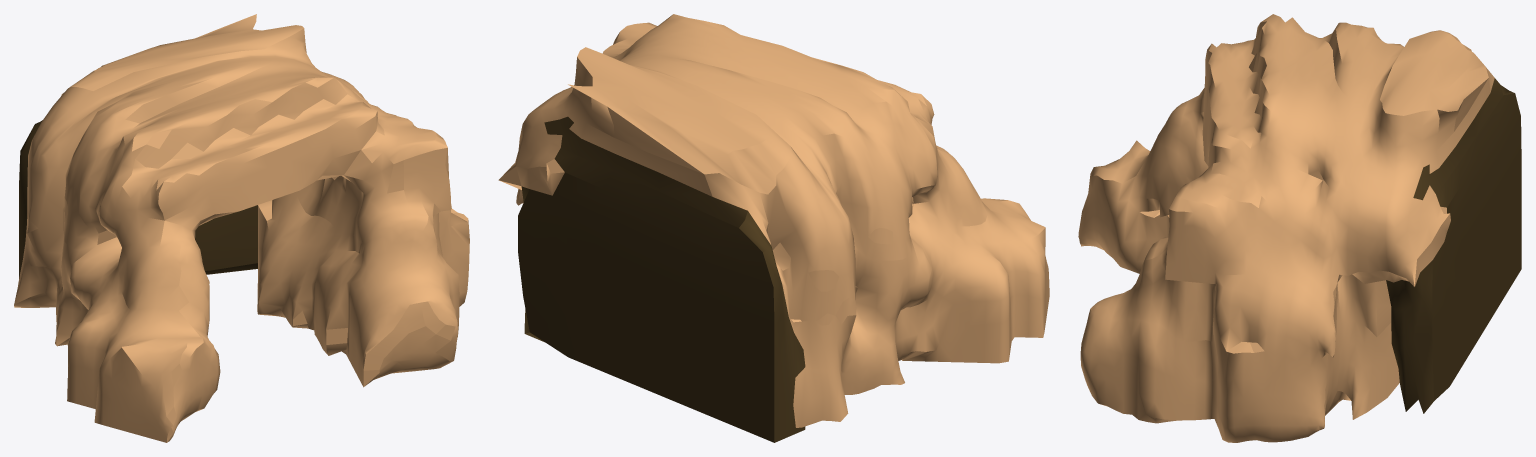
The model's file is cueva.fbx.
3 views of the same model, side by side, from view 1: azimuth 30°, elevation 25°; view 2: azimuth 150°, elevation 25°; view 3: azimuth 270°, elevation 25° (orthographic). The views are drawn at different scales.
Visible parts, largest first — view 1: Retopo_Cueva; view 2: Retopo_Cueva; view 3: Retopo_Cueva.
Part boxes in pixels (left/top/right/bottom): Retopo_Cueva: left=14, top=14, right=469, bottom=442; Retopo_Cueva: left=498, top=14, right=1049, bottom=442; Retopo_Cueva: left=1078, top=14, right=1521, bottom=442.
Size of the model in its own units: 12202 by 7323 by 10245.
